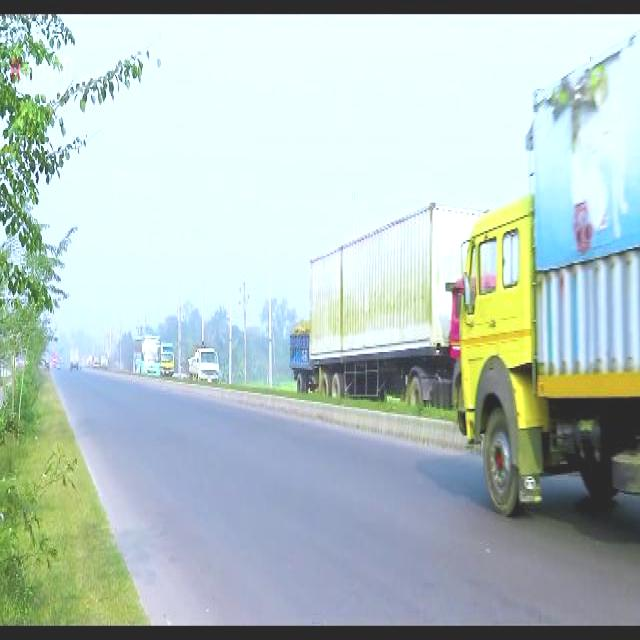TRUCK: (455, 27, 638, 545), (281, 246, 480, 412), (190, 347, 220, 383)
